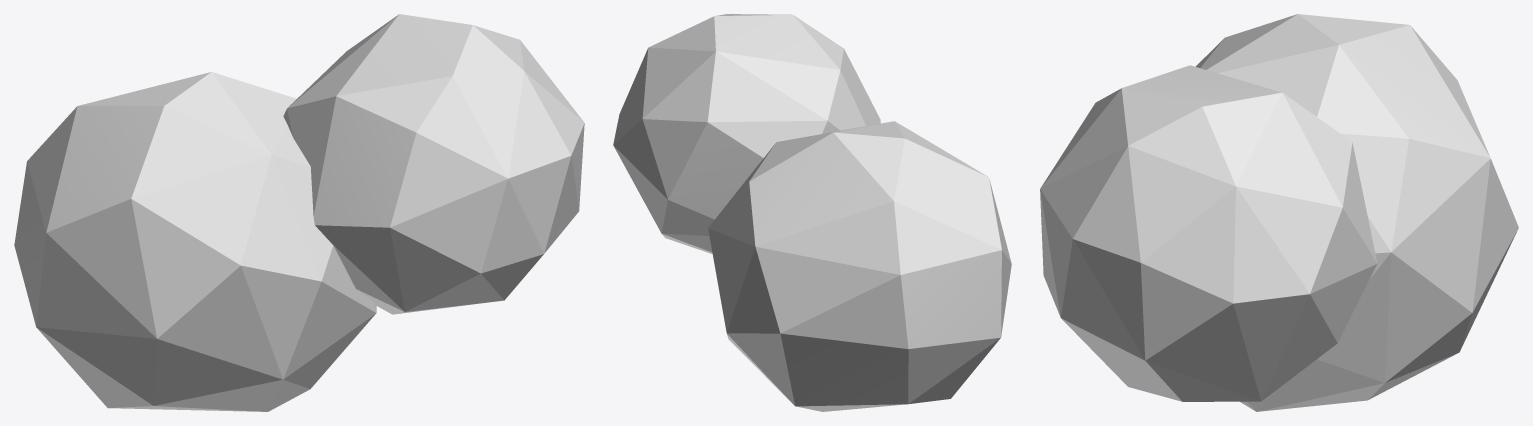
Rendered from cloud_12.fbx.
3 views of the same model, side by side, from view 1: azimuth 30°, elevation 25°; view 2: azimuth 150°, elevation 25°; view 3: azimuth 270°, elevation 25° (orthographic). The views are drawn at different scales.
Parts seen in each view (by area): view 1: cloud_12; view 2: cloud_12; view 3: cloud_12.
Boxes of the visible parts, <box> form: cloud_12: <box>14,14,584,411</box>; cloud_12: <box>613,14,1011,411</box>; cloud_12: <box>1040,14,1518,411</box>.
Bounding box in the file's own units: 461 × 329 × 353.
